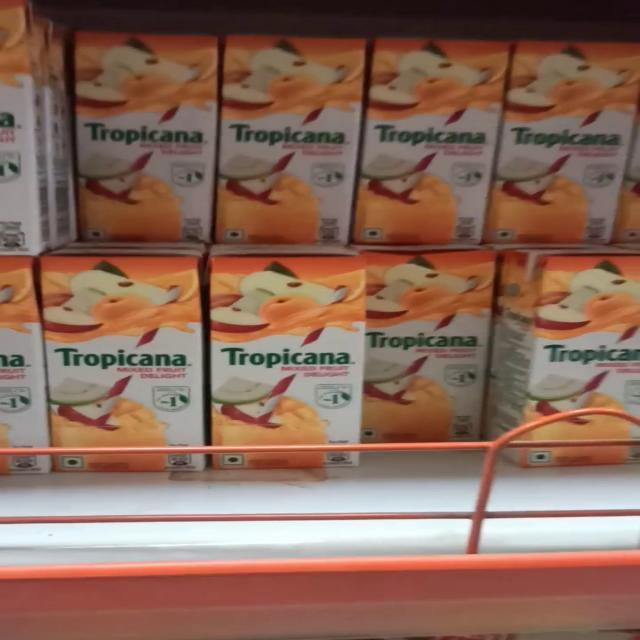Tropicana: (61, 27, 223, 247), (216, 30, 374, 252), (208, 251, 356, 478), (47, 256, 196, 470), (372, 35, 510, 252)
